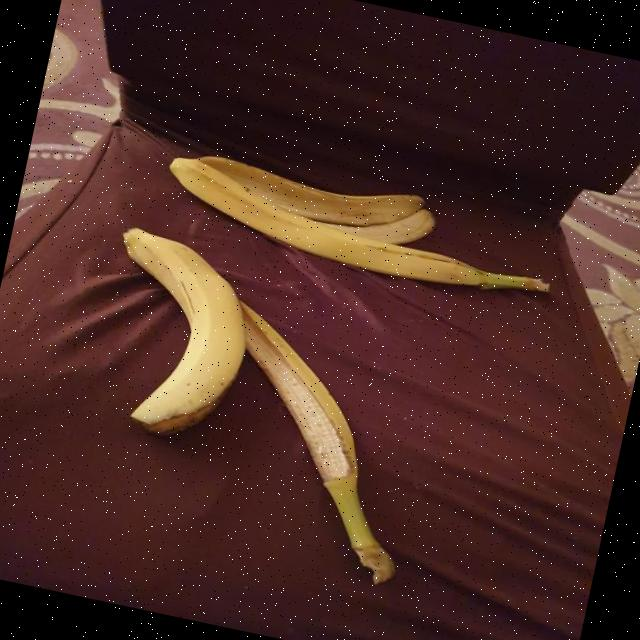banana-peel: (61, 222, 454, 588), (154, 140, 563, 308), (81, 222, 265, 450)
